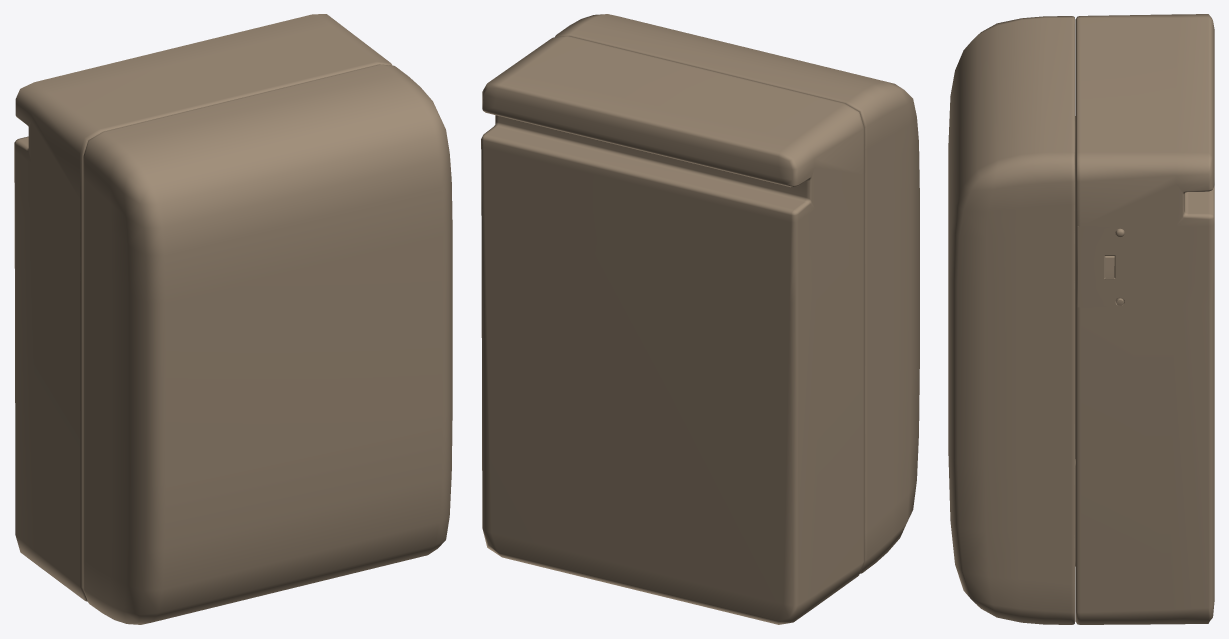
Rendered from EMERGENCY_LIGHT_Base.fbx.
The picture shows the model from 3 angles, left to right: view 1: azimuth 30°, elevation 25°; view 2: azimuth 150°, elevation 25°; view 3: azimuth 270°, elevation 25°; orthographic projection.
Visible parts, largest first — view 1: shell, EMERGENCY_LIGHT_Base; view 2: EMERGENCY_LIGHT_Base, shell; view 3: EMERGENCY_LIGHT_Base, shell, panel.
Boxes of the visible parts, x1,y1,x2,y2 form: shell: (83,64,452,624); EMERGENCY_LIGHT_Base: (14,14,392,601); EMERGENCY_LIGHT_Base: (481,36,863,624); shell: (555,14,919,573); EMERGENCY_LIGHT_Base: (1075,14,1214,624); shell: (948,16,1075,624); panel: (1077,226,1127,307).
Size of the model in its own units: 38.26 by 53.84 by 27.6.
